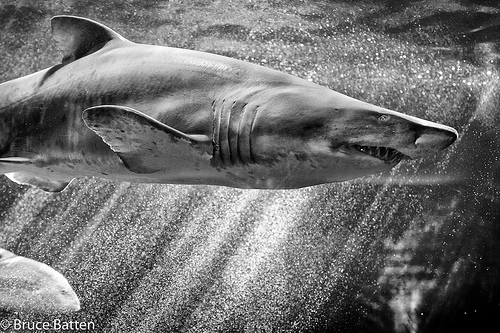shark: (2, 8, 464, 210)
